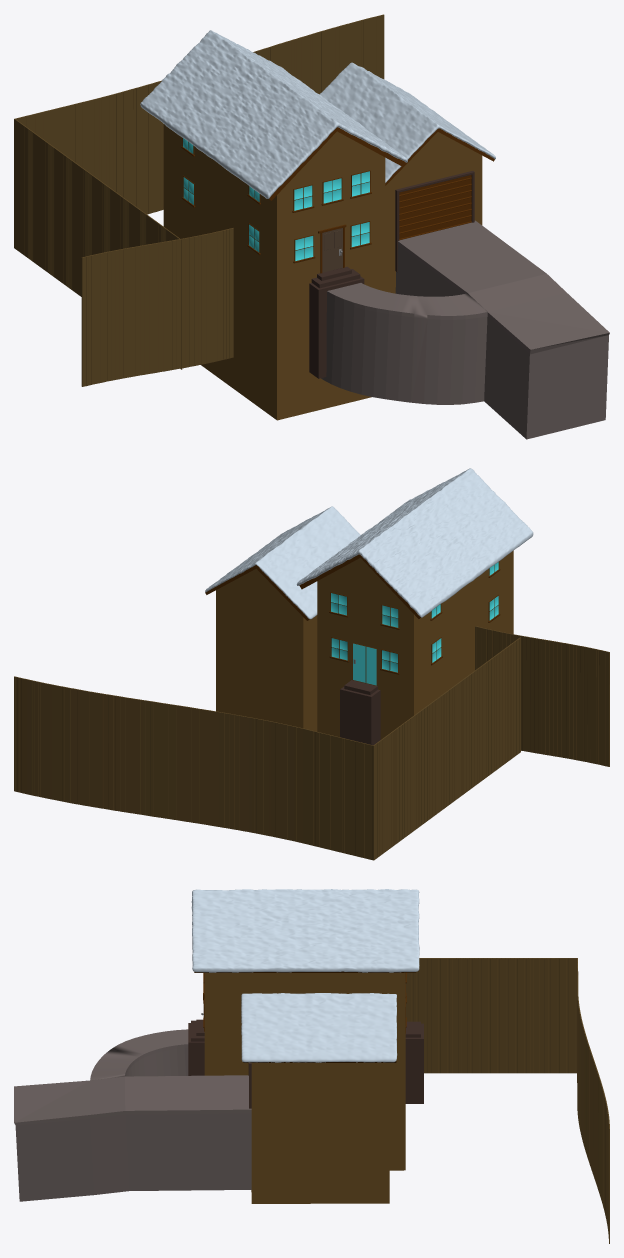
The model's file is donavanshouse_compressed.glb.
3 renders of one model, top to bottom at view 1: azimuth 30°, elevation 25°; view 2: azimuth 150°, elevation 25°; view 3: azimuth 270°, elevation 25°, orthographic. The views are drawn at different scales.
Parts seen in each view (by area): view 1: Cube.605, Cube.618, Cube.600, Cube.597, Cube.599, Cube.604, Cube.602; view 2: Cube.605, Cube.600, Cube.597, Cube.599, Cube.604; view 3: Cube.618, Cube.597, Cube.600, Cube.605, Cube.599.
Boxes of the visible parts, <box> form: Cube.605: <box>14,14,384,386</box>; Cube.618: <box>321,220,609,439</box>; Cube.600: <box>163,124,482,420</box>; Cube.597: <box>140,30,495,198</box>; Cube.599: <box>181,127,494,378</box>; Cube.604: <box>183,138,369,260</box>; Cube.602: <box>322,228,342,272</box>; Cube.605: <box>14,626,609,860</box>; Cube.600: <box>216,550,513,739</box>; Cube.597: <box>205,468,533,619</box>; Cube.599: <box>205,554,500,745</box>; Cube.604: <box>331,562,498,685</box>; Cube.618: <box>14,1029,251,1201</box>; Cube.597: <box>191,889,419,1062</box>; Cube.600: <box>204,972,405,1203</box>; Cube.605: <box>405,958,609,1243</box>; Cube.599: <box>188,971,423,1108</box>.
Bounding box in the file's own units: 5.25 × 2.99 × 6.26.
